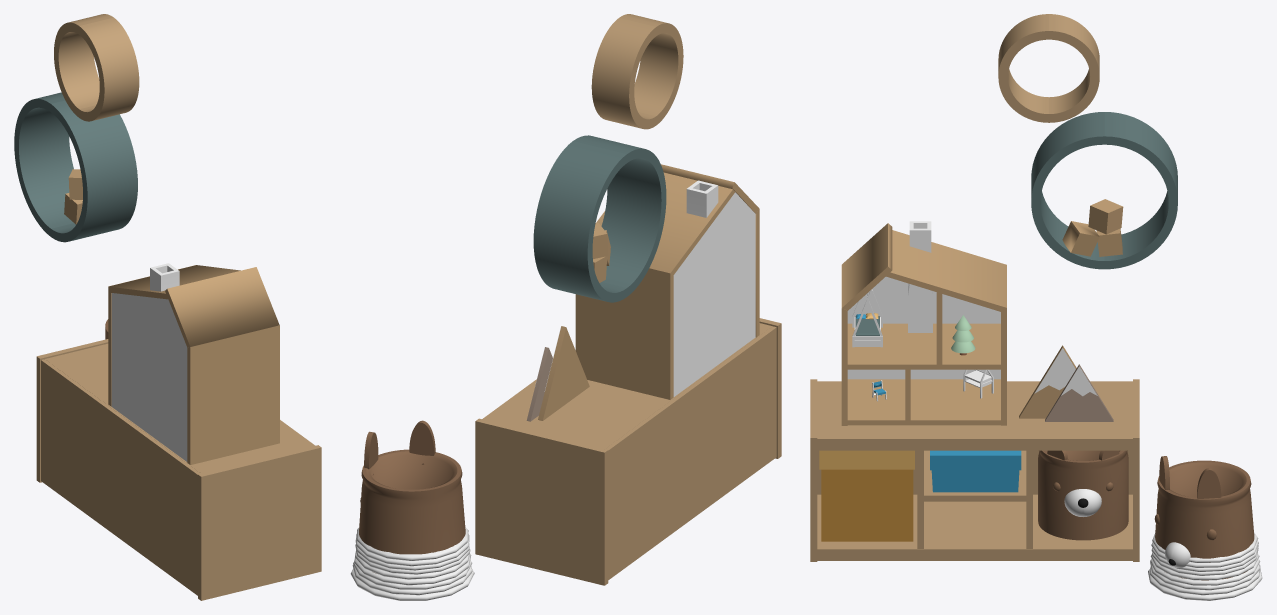
The model's file is Furn1_playzone_color3_joined.fbx.
The picture shows the model from 3 angles, left to right: view 1: azimuth 30°, elevation 25°; view 2: azimuth 150°, elevation 25°; view 3: azimuth 270°, elevation 25°; orthographic projection. The views are drawn at different scales.
Parts seen in each view (by area): view 1: Цилиндр.001; view 2: Цилиндр.001; view 3: Цилиндр.001.
Boxes of the visible parts, <box> form: Цилиндр.001: <box>14,14,321,600</box>; Цилиндр.001: <box>350,14,781,600</box>; Цилиндр.001: <box>810,14,1262,600</box>.
Bounding box in the file's own units: 200 × 471 × 392.
